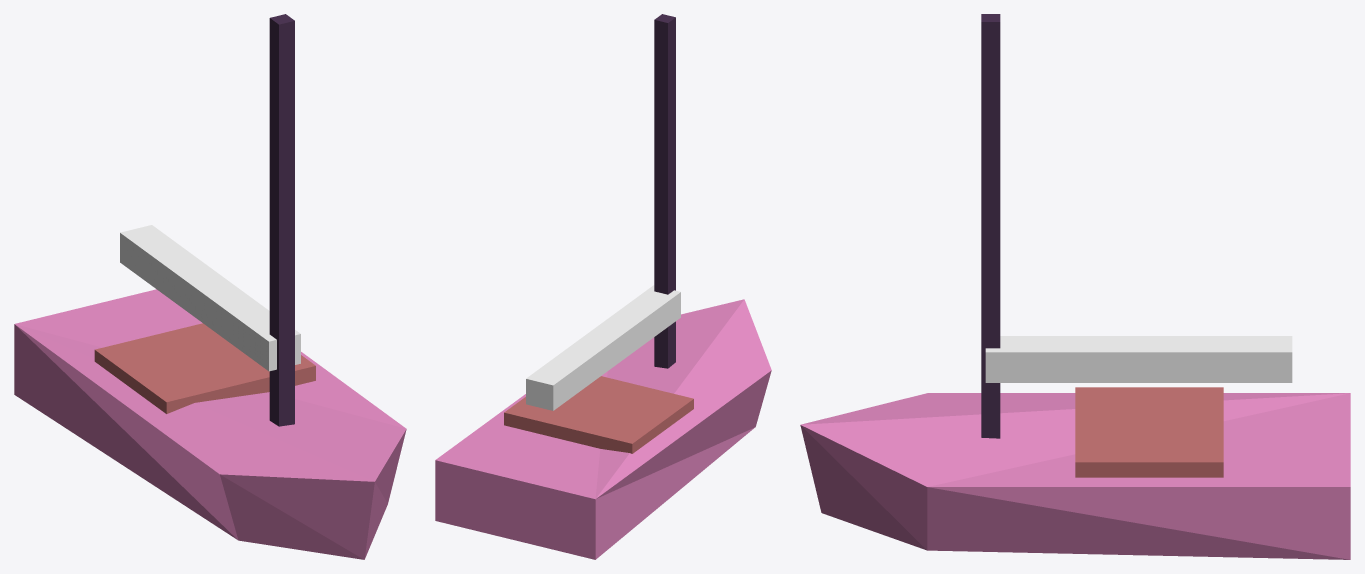
File: dinghy_p.glb
3 renders of one model, left to right at view 1: azimuth 30°, elevation 25°; view 2: azimuth 150°, elevation 25°; view 3: azimuth 270°, elevation 25°, orthographic. The views are drawn at different scales.
Visible parts, largest first — view 1: Mesh; view 2: Mesh; view 3: Mesh.
Boxes of the visible parts, x1=… form: Mesh: x1=14, y1=14, x2=406, y2=559; Mesh: x1=435, y1=14, x2=771, y2=559; Mesh: x1=800, y1=14, x2=1350, y2=559.
Bounding box in the file's own units: 1.05 × 2.58 × 2.6.
